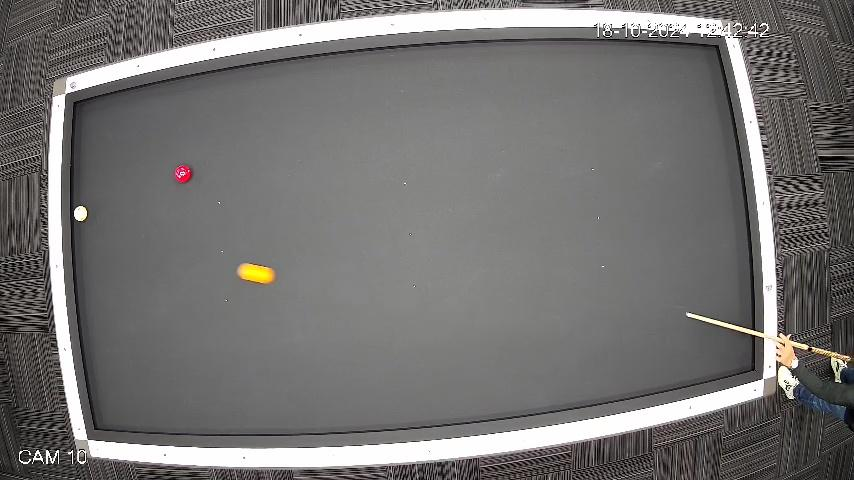Red: (173, 164, 192, 184)
White: (72, 205, 89, 223)
Yellow: (236, 262, 276, 286)
